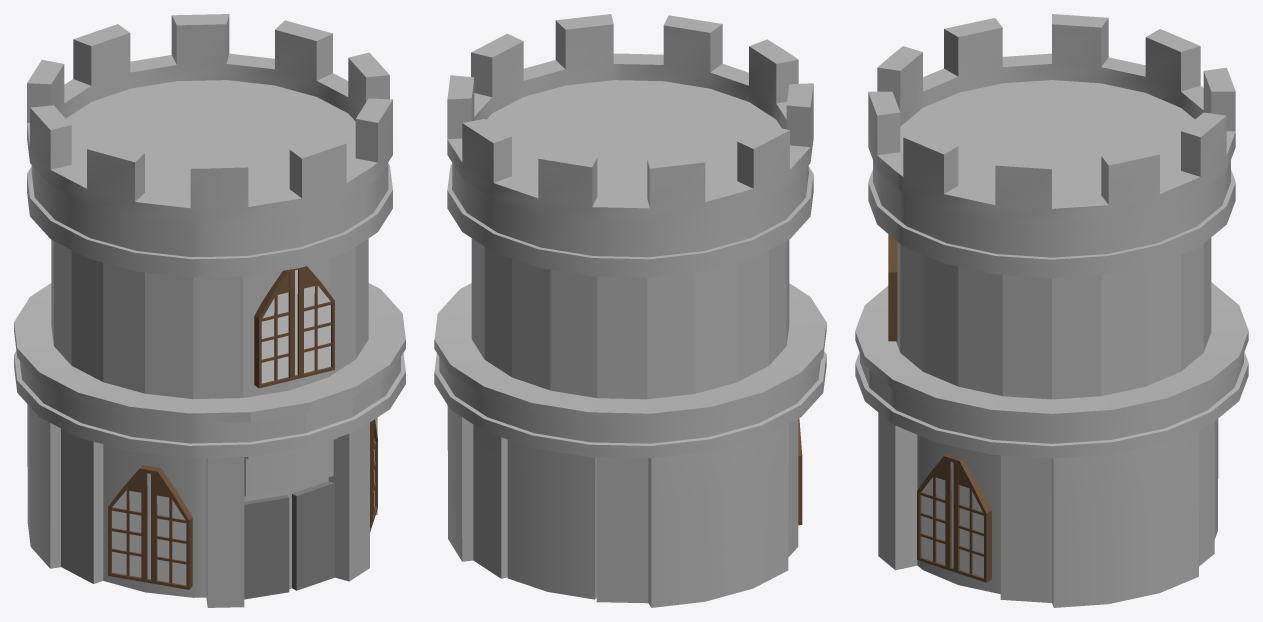
Rendered from library final.fbx.
The picture shows the model from 3 angles, left to right: view 1: azimuth 30°, elevation 25°; view 2: azimuth 150°, elevation 25°; view 3: azimuth 270°, elevation 25°; orthographic projection.
Visible parts, largest first — view 1: polySurface1, pPlane1.001, pPlane1, polySurface2, Cube.001, polySurface3, Cube, pPlane1.002; view 2: polySurface1; view 3: polySurface1, pPlane1.002, Cube.002, pPlane1.
Boxes of the visible parts, bbox=[...] form: polySurface1: bbox=[14, 14, 405, 607]; pPlane1.001: bbox=[108, 465, 192, 589]; pPlane1: bbox=[254, 266, 334, 388]; polySurface2: bbox=[244, 495, 289, 599]; Cube.001: bbox=[112, 473, 186, 585]; polySurface3: bbox=[292, 481, 334, 590]; Cube: bbox=[261, 269, 330, 383]; pPlane1.002: bbox=[370, 419, 377, 531]; polySurface1: bbox=[434, 14, 826, 607]; polySurface1: bbox=[855, 14, 1248, 607]; pPlane1.002: bbox=[917, 454, 991, 582]; Cube.002: bbox=[921, 462, 983, 577]; pPlane1: bbox=[888, 234, 897, 341].
Bounding box in the file's own units: 51.34 × 63.16 × 51.34.
